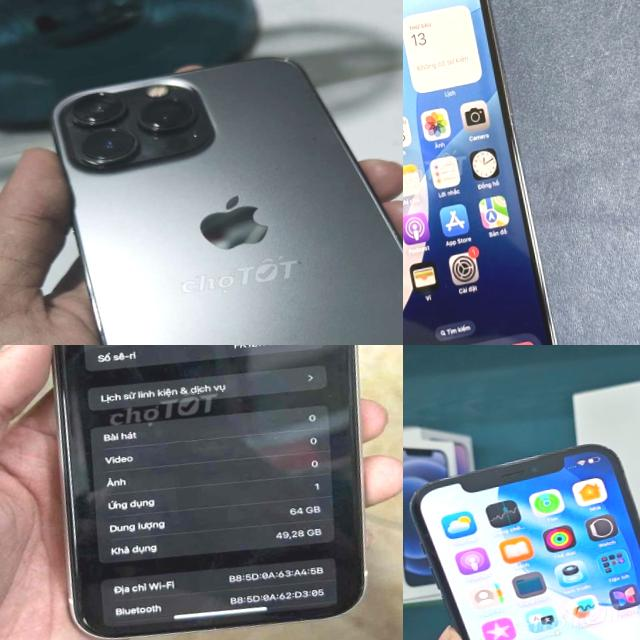gen_11: (6, 345, 403, 640)
gen_12_13: (38, 24, 403, 345), (403, 0, 569, 345), (403, 430, 640, 640)
